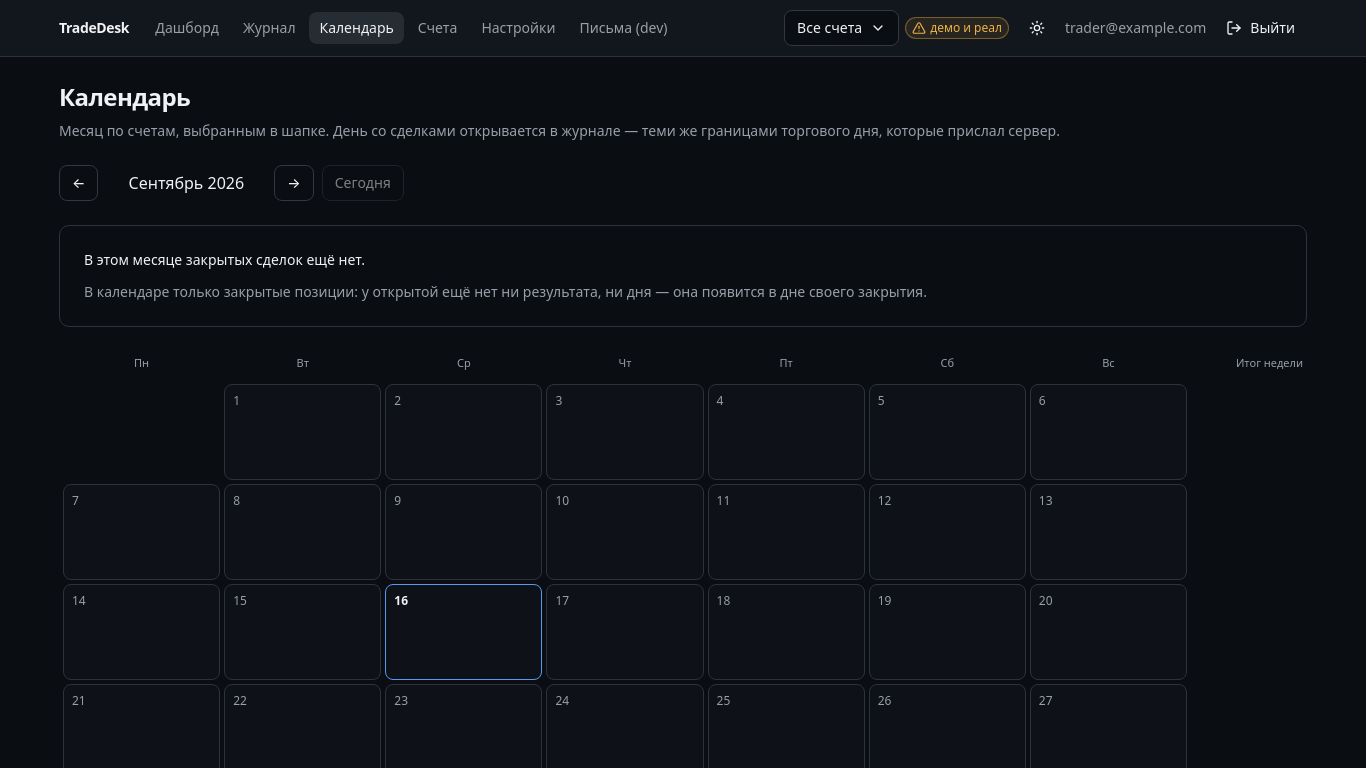
Test: пресеты выбора › нажатие пресета уходит в account_ids и перезапрашивает экран без перезагрузки
Check: the heading "Календарь" is shown, box [59, 80, 190, 113]
Click the button with aria-label "Выбрать счета. В выборке демо и реальные счета вместе": point(842, 28) [784, 10, 899, 46]
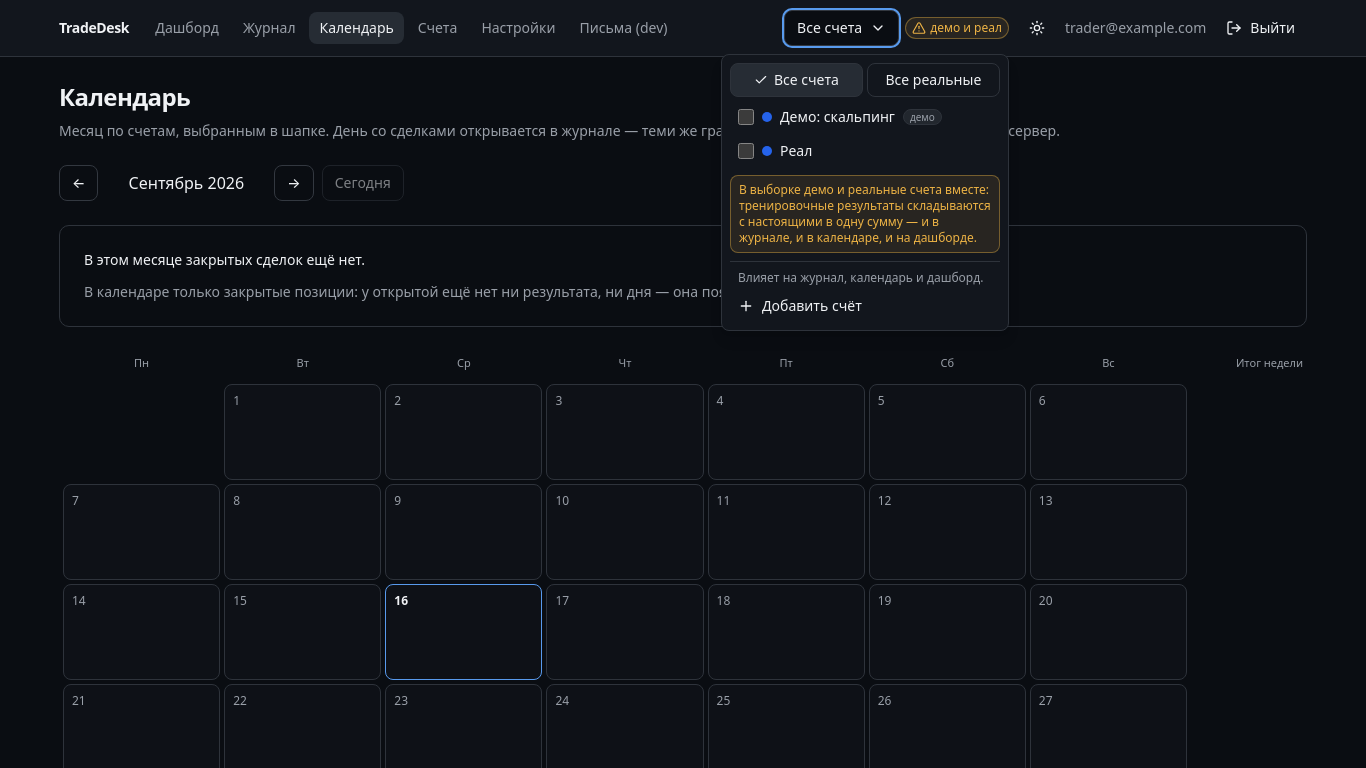
Click the button "Все реальные": point(933, 80) [867, 63, 1000, 97]
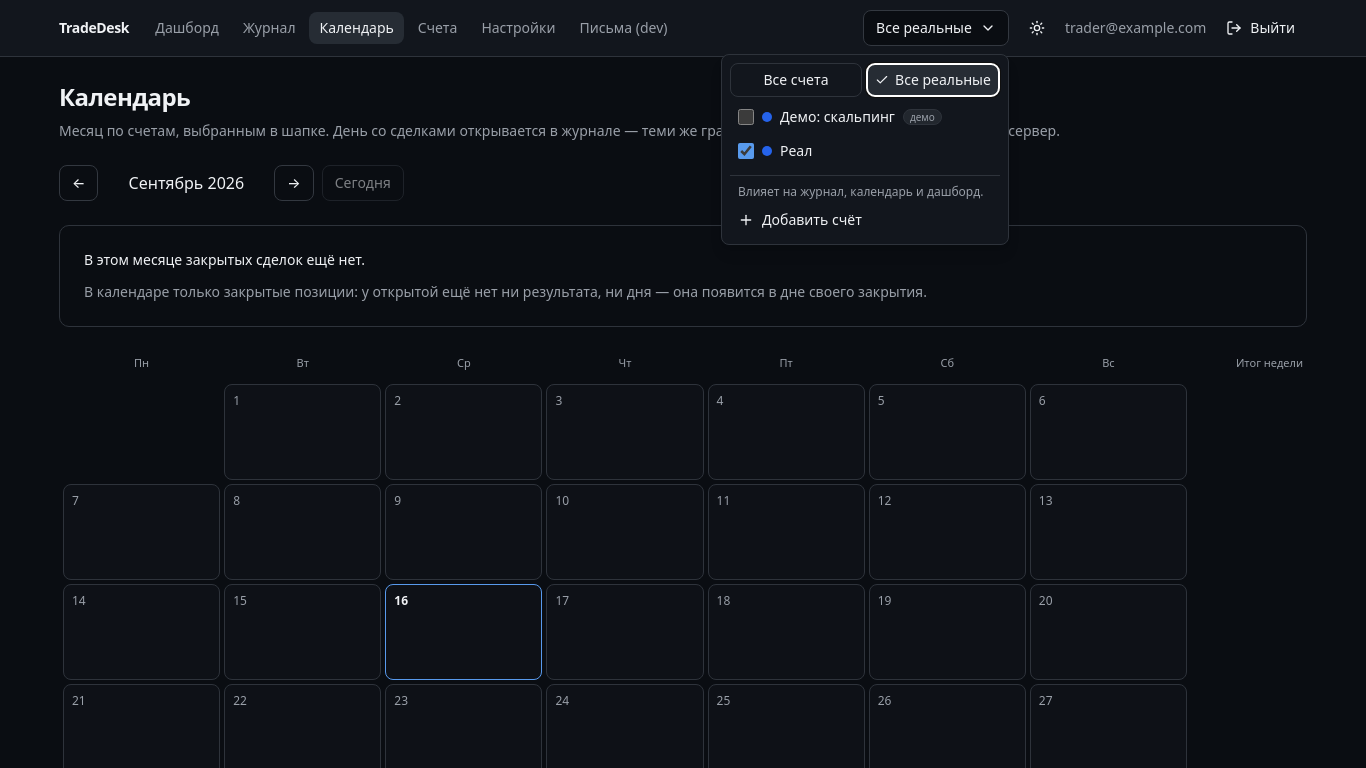
Check: the button with aria-label "Выбрать счета" reads "Все реальные", box [863, 10, 1009, 46]
